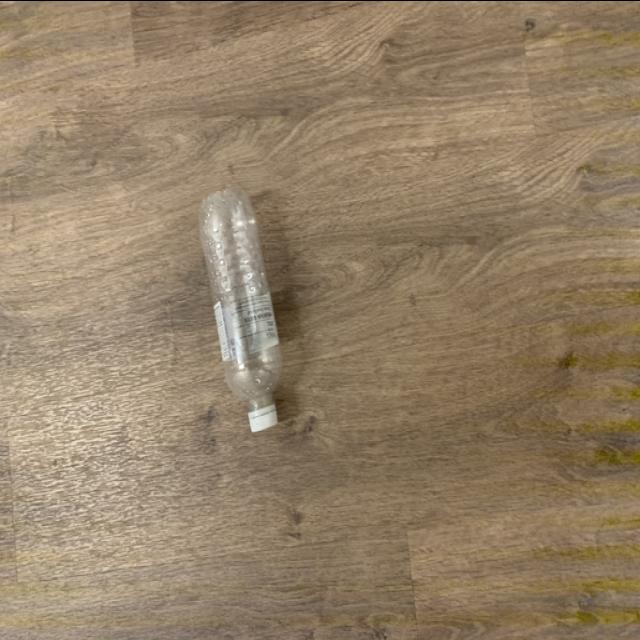PET: (198, 182, 284, 438)
